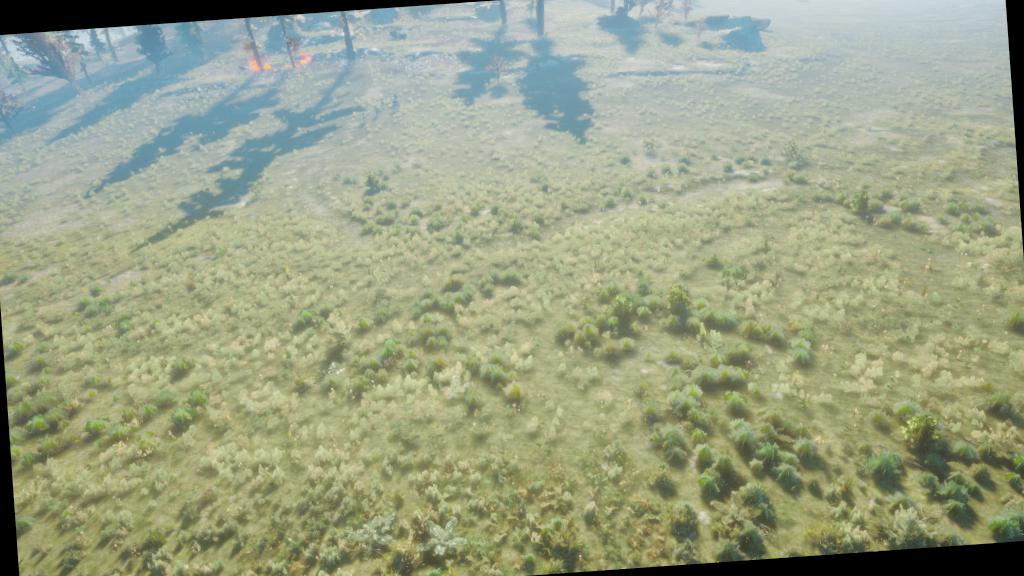Fire: (280, 38, 316, 74), (240, 42, 274, 78)
human: (358, 108, 372, 128), (378, 95, 388, 111), (390, 99, 400, 112), (373, 104, 380, 120), (390, 92, 400, 102)
